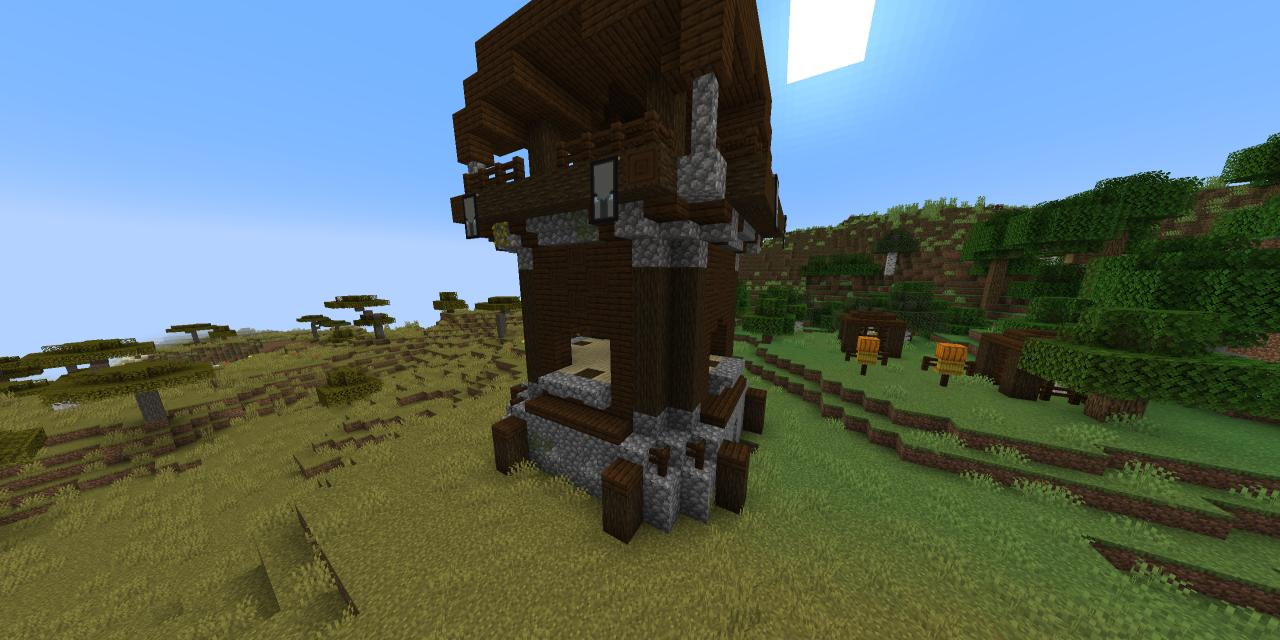pillager outpost: (440, 0, 797, 557)
